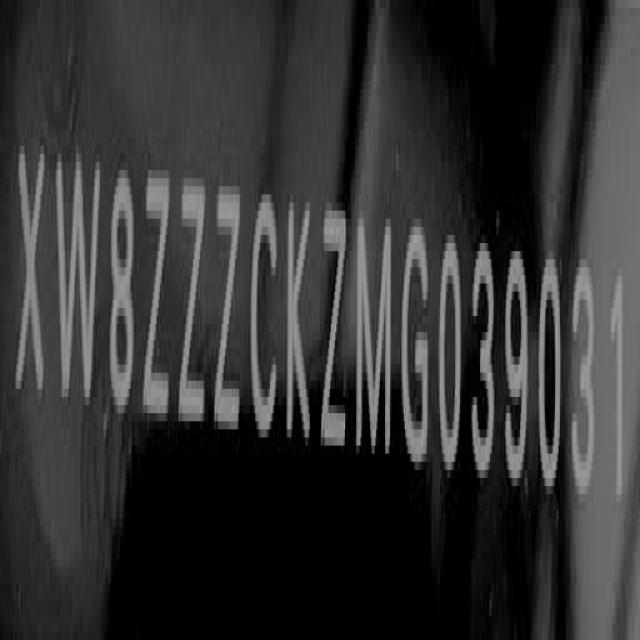0: (533, 246, 566, 504), (436, 216, 463, 489)
1: (607, 270, 624, 513)
3: (470, 228, 499, 489), (569, 258, 594, 492)
8: (108, 174, 134, 411)
9: (504, 237, 529, 498)
C: (249, 186, 279, 447)
G: (400, 219, 430, 483)
K: (283, 195, 314, 453)
M: (352, 210, 394, 459)
W: (52, 147, 102, 423)
X: (16, 138, 48, 429)
Z: (211, 180, 244, 444), (318, 195, 348, 465), (142, 162, 172, 423), (178, 156, 205, 432)
